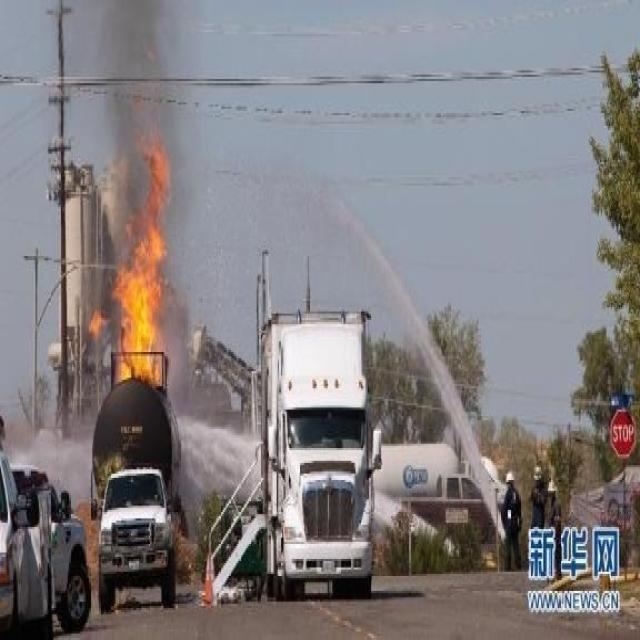Fire: (88, 140, 172, 388)
Smoke: (96, 2, 186, 263), (11, 416, 96, 508)
